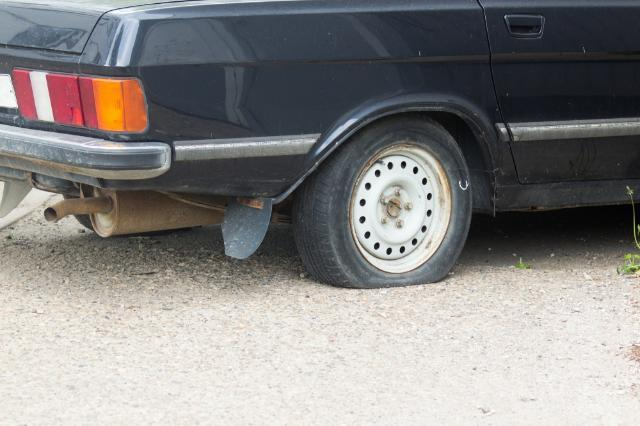tire flat: (293, 114, 474, 290)
